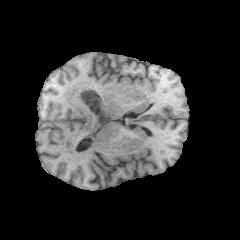glioma: (65, 79, 112, 137)
